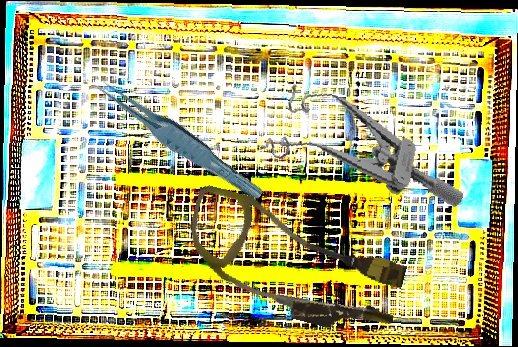Cannula: (173, 183, 415, 344)
Speculum: (256, 79, 478, 209)
Tissue Forceps: (91, 64, 265, 213)
